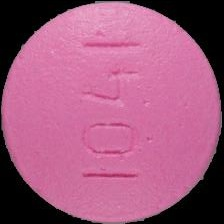68788-9412: (0, 0, 224, 224)
